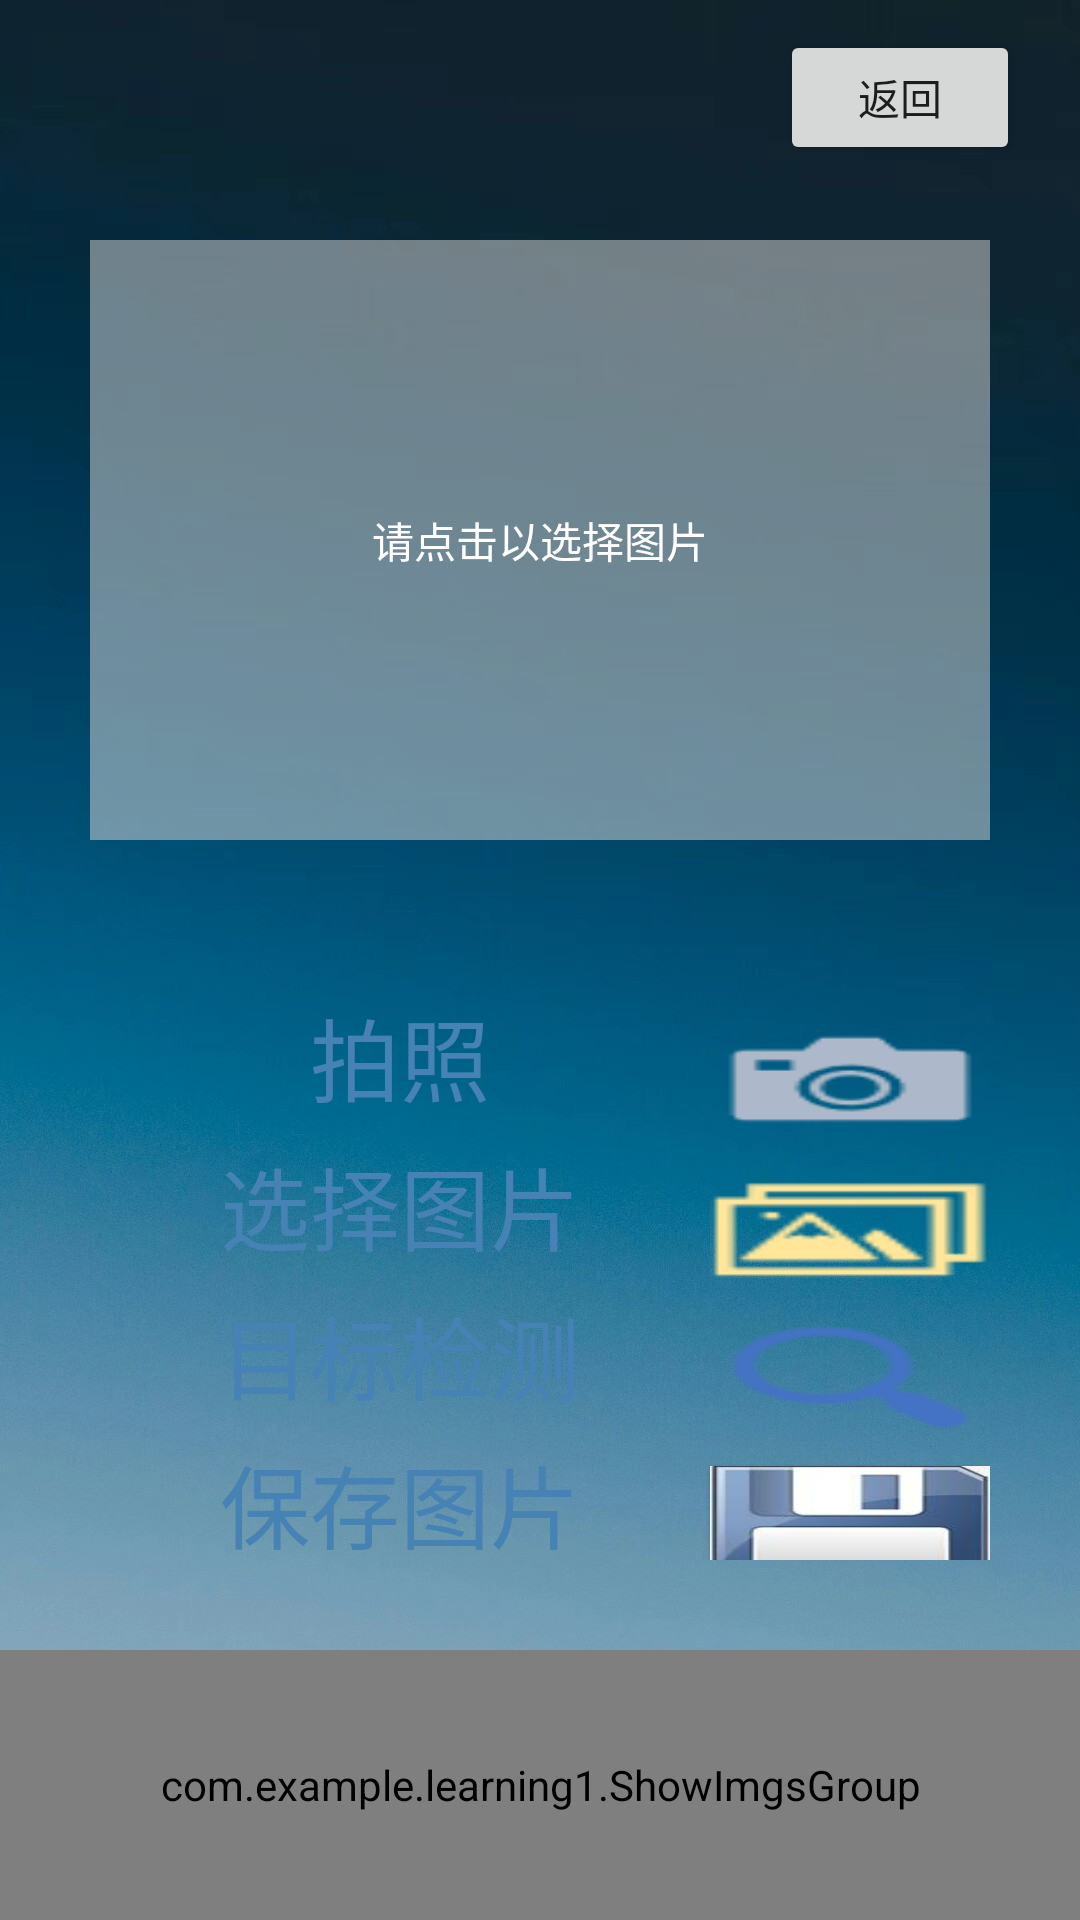

Screen size 1080px x 1920px. Icon name, then its box in pixels as (x1, y1, x2, y2):
loupe: (711, 1317, 989, 1426)
photograph: (730, 1036, 971, 1122)
photos: (710, 1183, 986, 1288)
